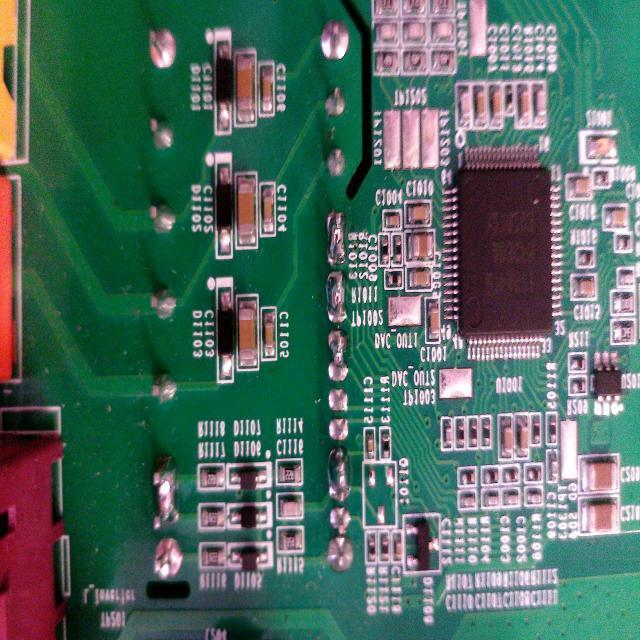Soldering shorted: (147, 458, 183, 534), (323, 268, 354, 328), (324, 446, 354, 503), (324, 328, 352, 386), (324, 208, 350, 270)
